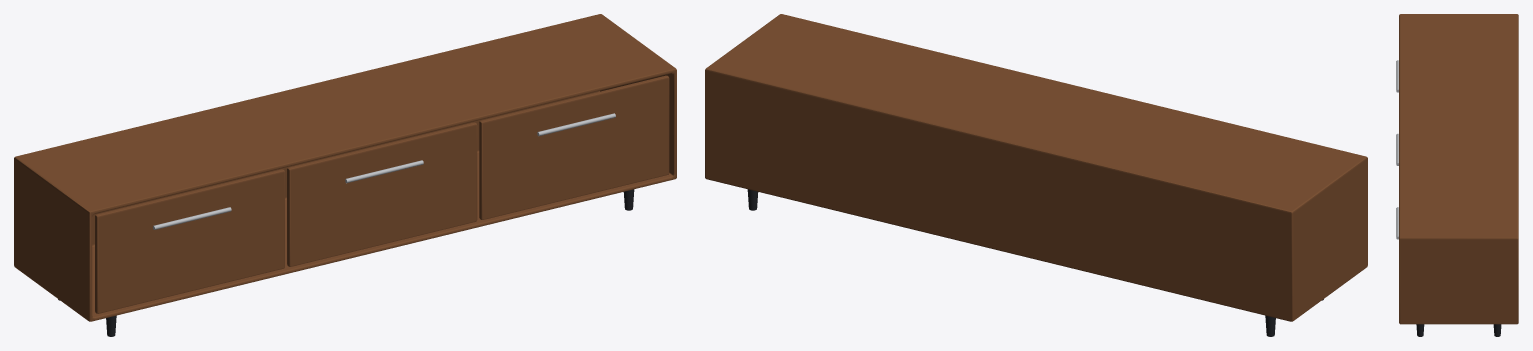
The model's file is tv-sideboard.glb.
The picture shows the model from 3 angles, left to right: view 1: azimuth 30°, elevation 25°; view 2: azimuth 150°, elevation 25°; view 3: azimuth 270°, elevation 25°; orthographic projection. The views are drawn at different scales.
Parts seen in each view (by area): view 1: tv-sideboard; view 2: tv-sideboard; view 3: tv-sideboard.
Boxes of the visible parts, <box> form: tv-sideboard: <box>14,14,676,336</box>; tv-sideboard: <box>705,14,1367,336</box>; tv-sideboard: <box>1396,14,1518,336</box>.
Bounding box in the file's own units: 2 × 0.46 × 0.461.
